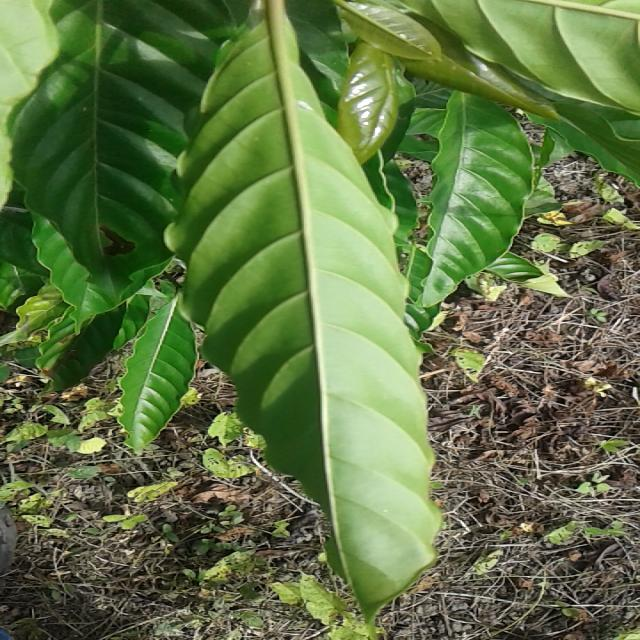Sanas: (164, 0, 443, 616)
